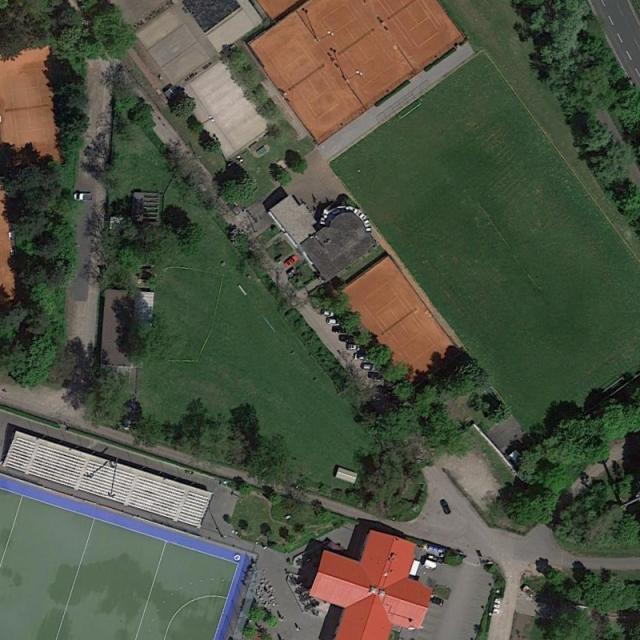vehicle: (282, 253, 300, 268), (427, 594, 444, 606), (440, 498, 452, 515), (367, 370, 385, 381), (75, 191, 92, 202), (330, 325, 348, 334), (360, 362, 376, 372), (346, 343, 363, 351), (338, 334, 355, 342), (325, 318, 342, 326), (321, 308, 336, 317), (354, 354, 368, 361)
